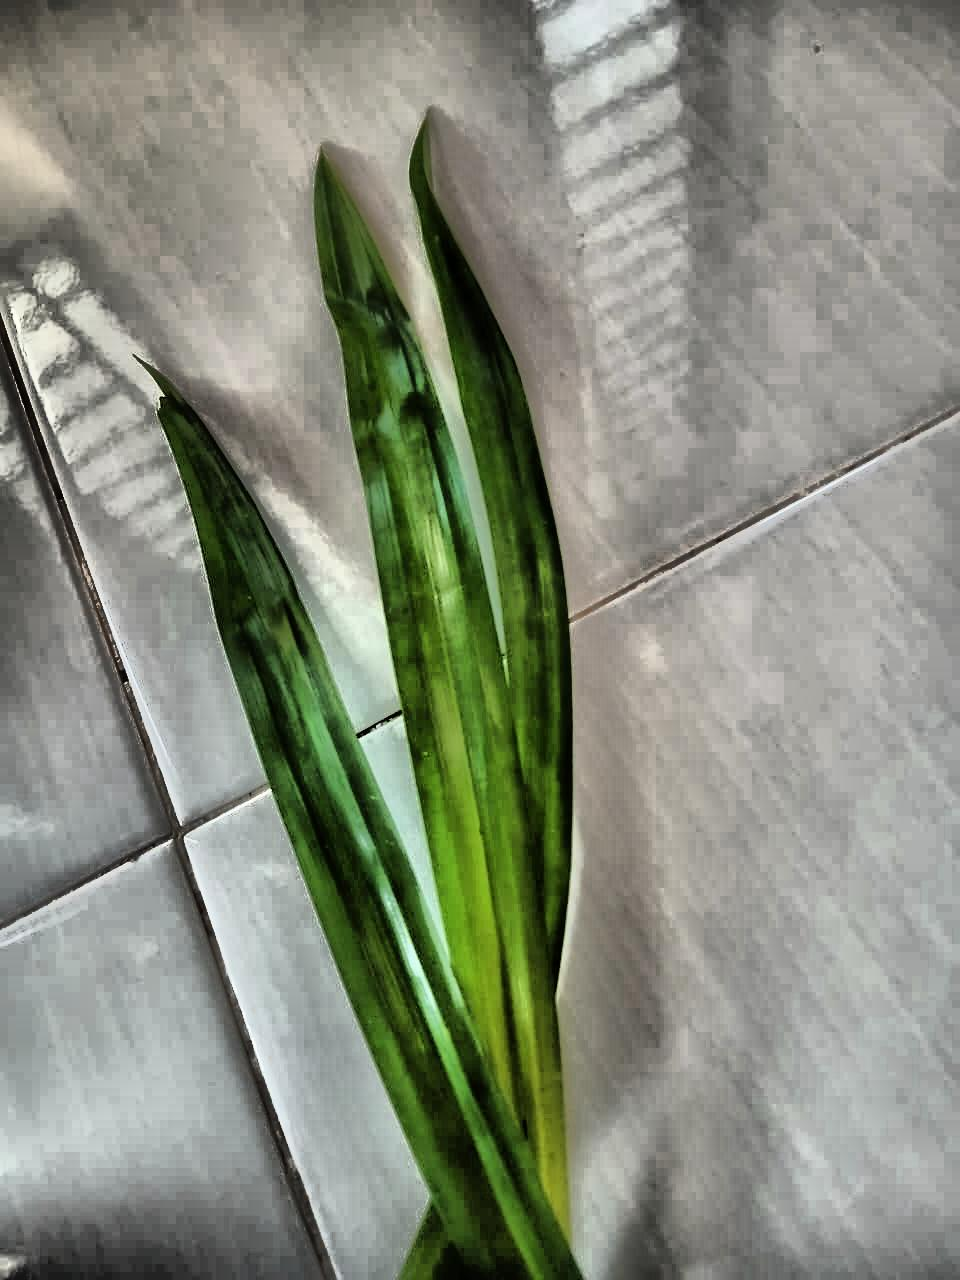daun pandan: (144, 118, 583, 1279)
